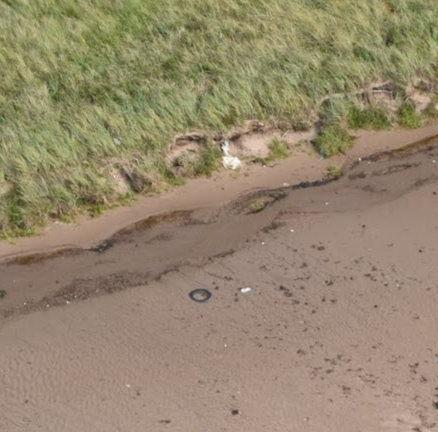white_in_green: (198, 129, 261, 182), (174, 268, 228, 319), (229, 273, 263, 306)
